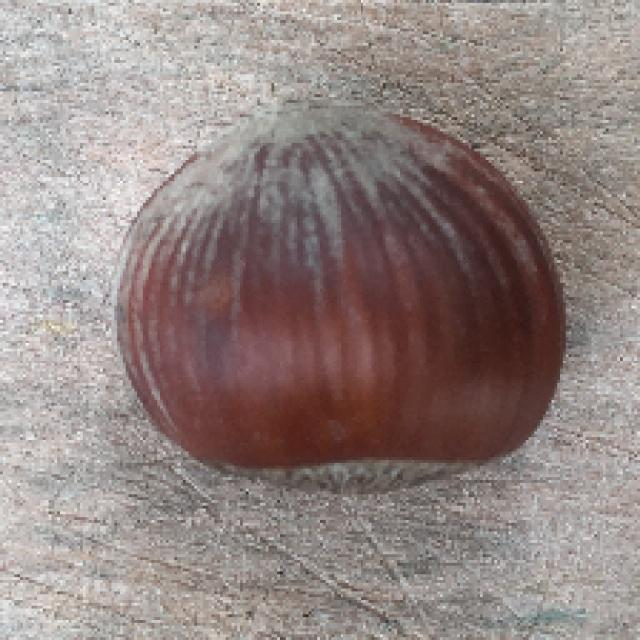DamagedHazelnut: (108, 87, 572, 502)
